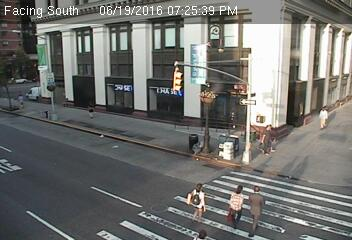neg: (73, 100, 99, 134), (127, 68, 153, 102), (175, 51, 200, 85), (224, 38, 249, 72), (282, 37, 306, 68), (23, 152, 44, 179)
pos: (240, 186, 276, 233), (219, 180, 251, 222), (182, 181, 210, 219), (254, 120, 277, 151), (314, 104, 336, 133)
